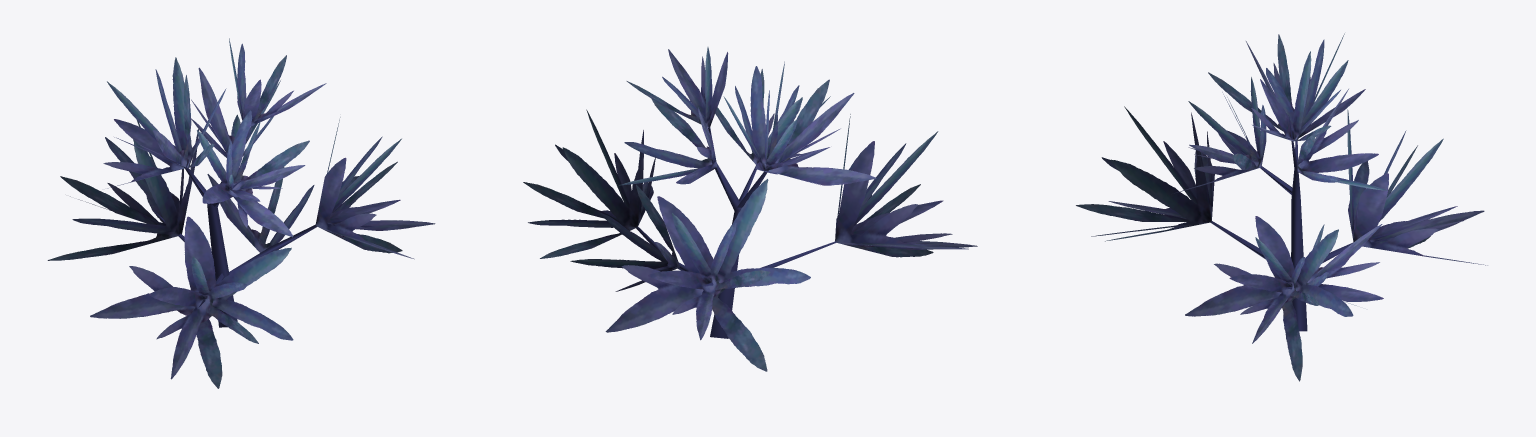
Rendered from shrb_blueleaf_l0.fbx.
The picture shows the model from 3 angles, left to right: view 1: azimuth 30°, elevation 25°; view 2: azimuth 150°, elevation 25°; view 3: azimuth 270°, elevation 25°; orthographic projection. The views are drawn at different scales.
Parts seen in each view (by area): view 1: mesh_node; view 2: mesh_node; view 3: mesh_node.
Boxes of the visible parts, bbox=[...] form: mesh_node: bbox=[47, 38, 435, 388]; mesh_node: bbox=[523, 47, 977, 371]; mesh_node: bbox=[1076, 33, 1487, 381].
Bounding box in the file's own units: 2.01 × 1.32 × 1.95.
2 materials, 2 textured.
